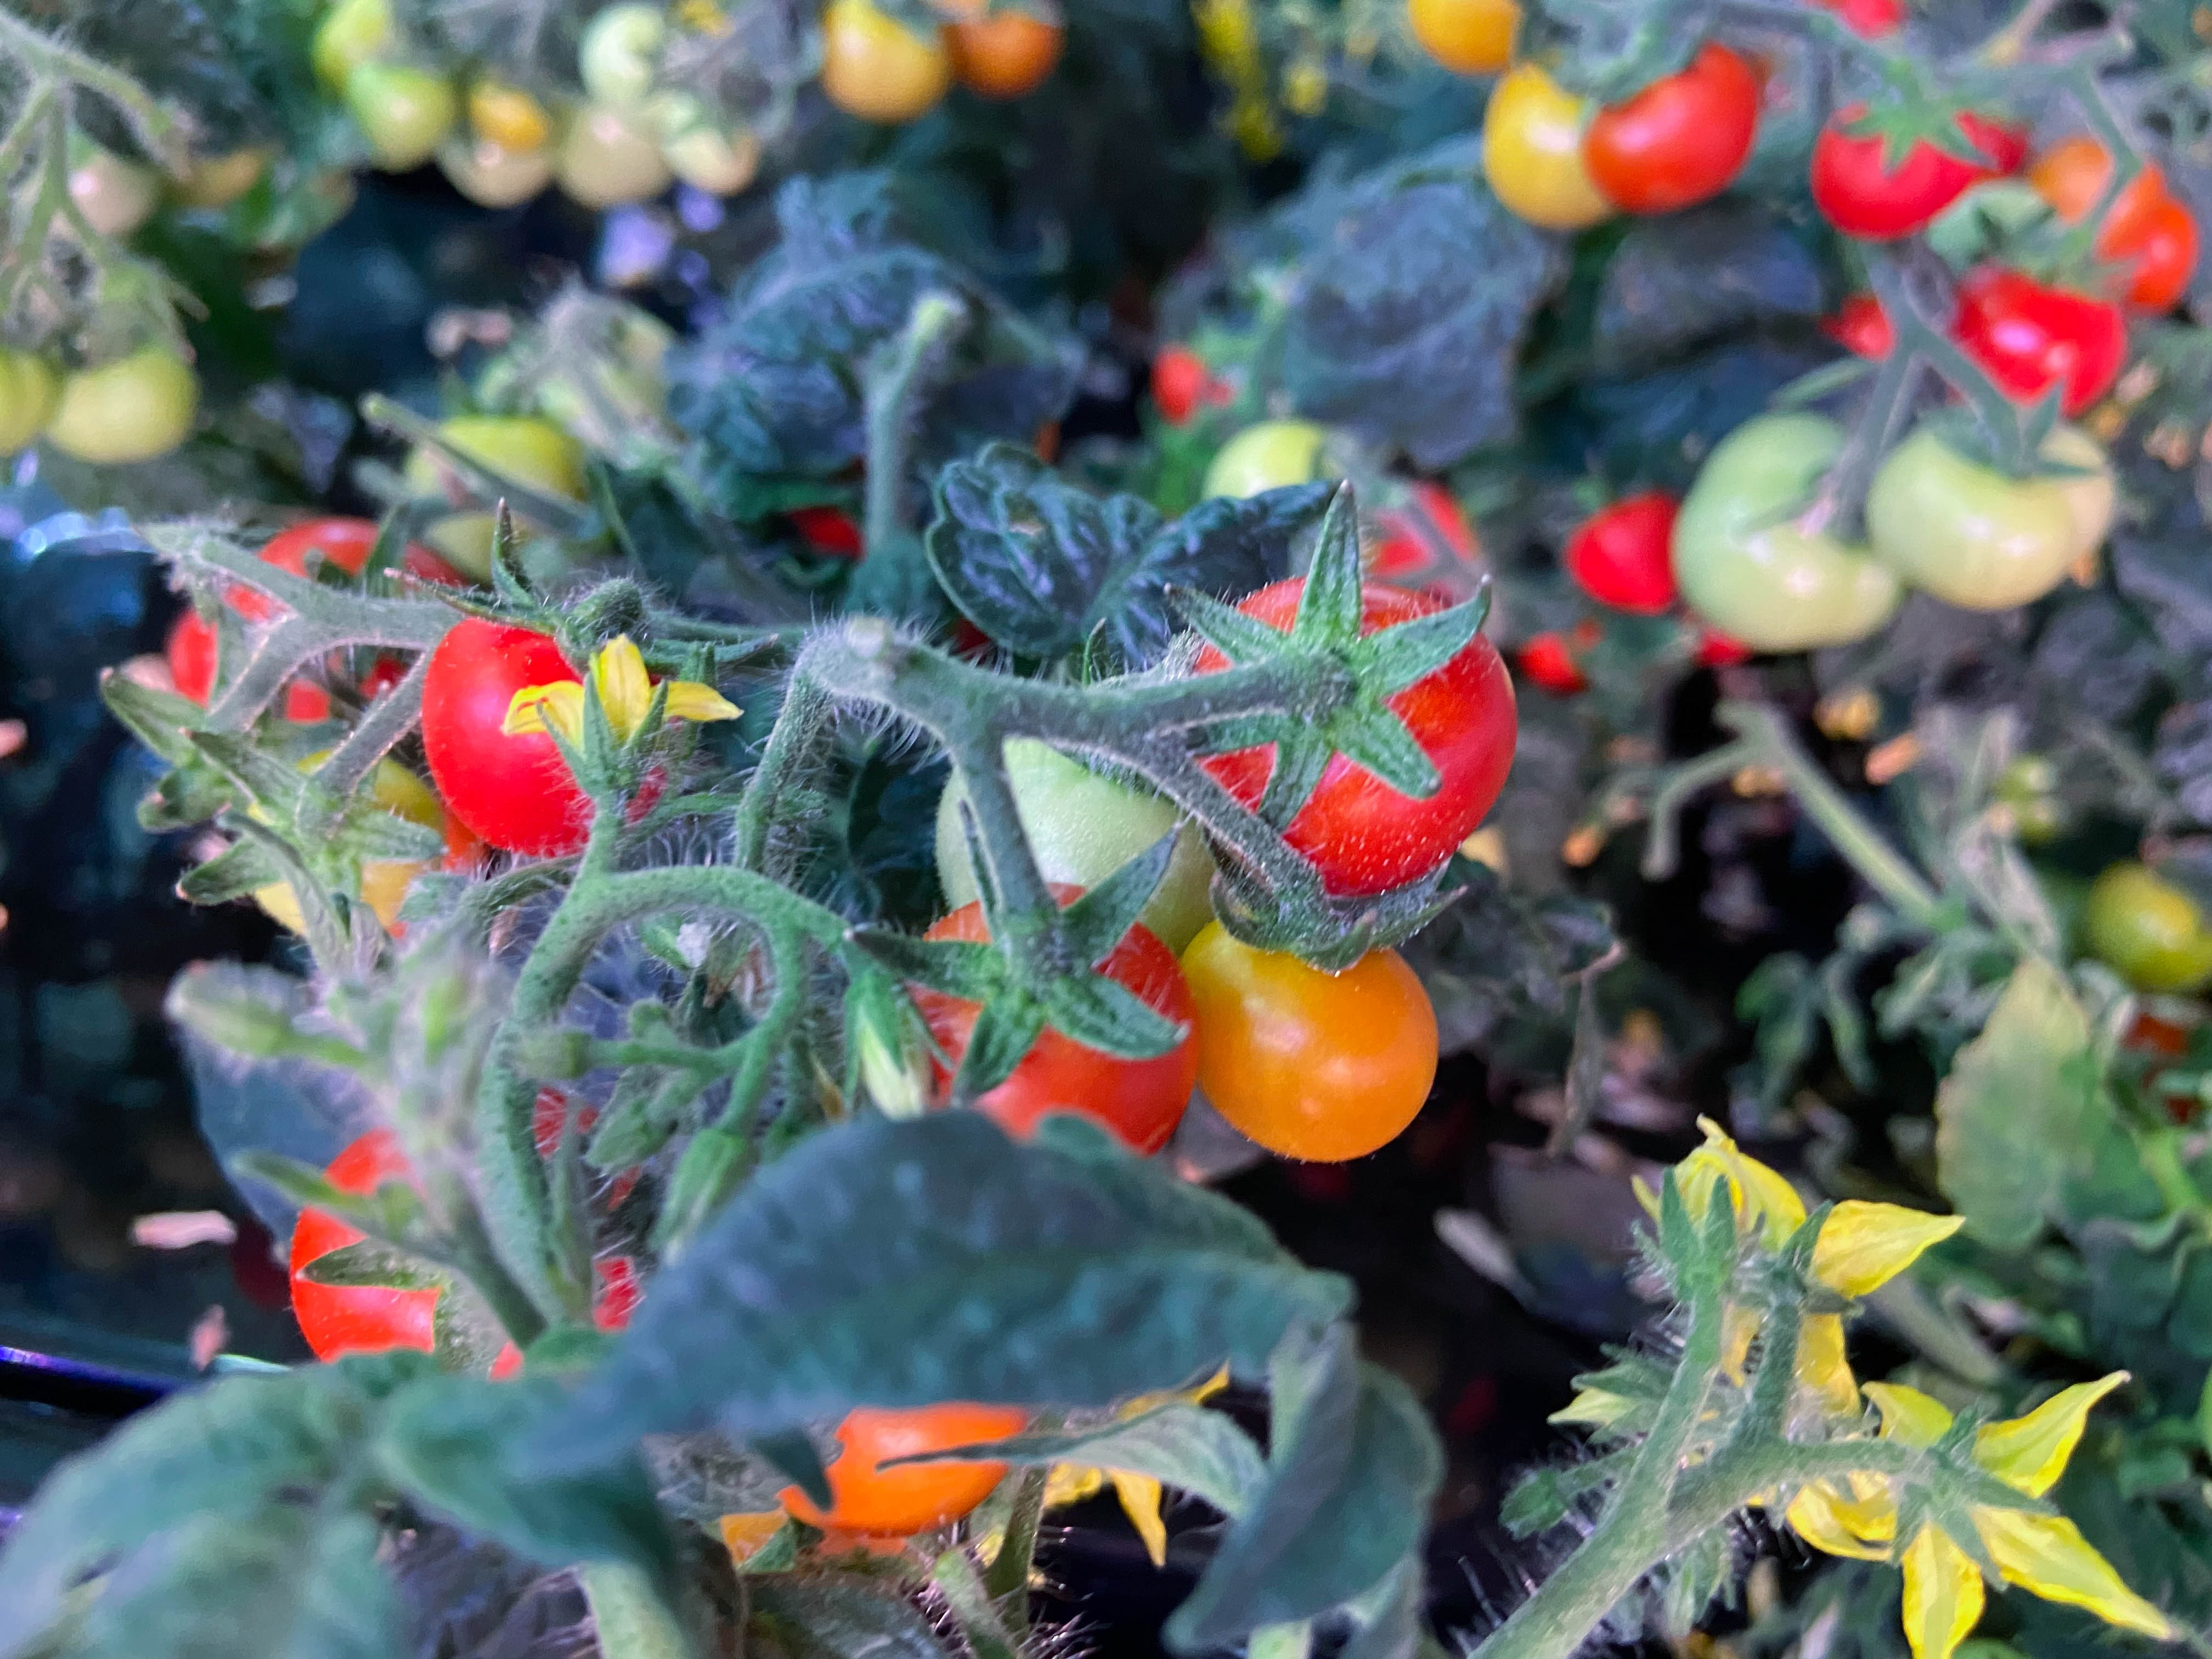green: (934, 704, 1235, 972), (1669, 406, 1911, 653), (1869, 408, 2109, 615), (239, 737, 460, 943), (38, 329, 200, 464), (2085, 859, 2212, 995), (153, 91, 275, 223), (23, 131, 158, 246), (434, 77, 552, 206), (550, 91, 676, 207), (1207, 418, 1331, 526), (345, 61, 458, 171), (1400, 0, 1529, 75), (0, 326, 54, 462)
red: (1188, 563, 1524, 904), (282, 1105, 658, 1384), (899, 889, 1202, 1168), (1174, 906, 1440, 1166), (418, 606, 674, 856), (172, 537, 402, 737), (399, 404, 589, 577), (2017, 141, 2200, 317), (1585, 33, 1764, 209), (803, 1403, 1035, 1530), (1946, 265, 2132, 416), (1480, 58, 1622, 232), (1810, 99, 1982, 237), (815, 0, 956, 120), (1562, 488, 1686, 610), (951, 3, 1062, 94), (1813, 274, 1919, 362), (1514, 617, 1594, 694), (1151, 349, 1217, 420), (1810, 2, 1912, 44)
